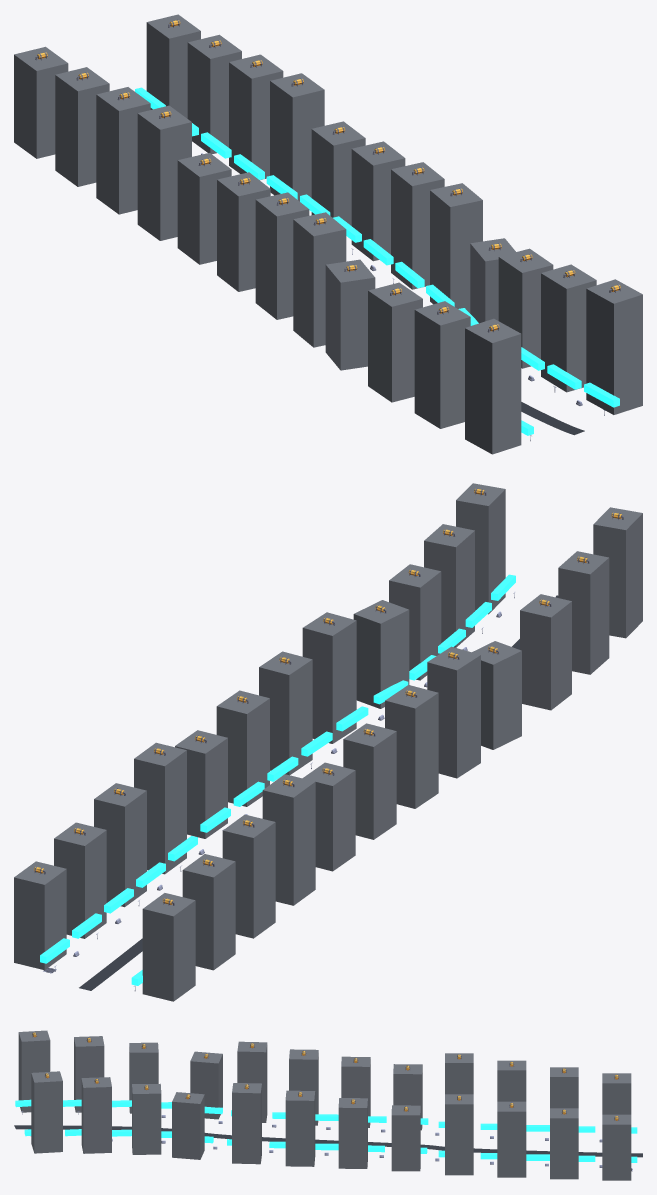
File: sector_01_cerberus_corridor.glb
The picture shows the model from 3 angles, top to bottom: view 1: azimuth 30°, elevation 25°; view 2: azimuth 150°, elevation 25°; view 3: azimuth 270°, elevation 25°; orthographic projection. The views are drawn at different scales.
Visible parts, largest first — view 1: Tower_zone_megatowers_flanks_-1_11, Tower_zone_megatowers_flanks_1_11, Tower_zone_megatowers_flanks_-1_10, Tower_zone_megatowers_flanks_-1_3, Tower_zone_megatowers_flanks_-1_9, Tower_zone_megatowers_flanks_1_3, Tower_zone_megatowers_flanks_1_7, Tower_zone_megatowers_flanks_-1_2, Tower_zone_megatowers_flanks_1_10, Tower_zone_megatowers_flanks_-1_7, Tower_zone_megatowers_flanks_-1_6, Tower_zone_megatowers_flanks_-1_1 (+12 smaller); view 2: Tower_zone_megatowers_flanks_-1_7, Tower_zone_megatowers_flanks_1_7, Tower_zone_megatowers_flanks_-1_3, Tower_zone_megatowers_flanks_-1_9, Tower_zone_megatowers_flanks_-1_6, Tower_zone_megatowers_flanks_-1_0, Tower_zone_megatowers_flanks_-1_2, Tower_zone_megatowers_flanks_1_3, Tower_zone_megatowers_flanks_1_6, Tower_zone_megatowers_flanks_-1_10, Tower_zone_megatowers_flanks_-1_5, Tower_zone_megatowers_flanks_1_0 (+13 smaller); view 3: Tower_zone_megatowers_flanks_1_11, Tower_zone_megatowers_flanks_1_7, Tower_zone_megatowers_flanks_1_3, Tower_zone_megatowers_flanks_1_10, Tower_zone_megatowers_flanks_1_6, Tower_zone_megatowers_flanks_1_2, Tower_zone_megatowers_flanks_1_8, Tower_zone_megatowers_flanks_1_9, Tower_zone_megatowers_flanks_1_5, Tower_zone_megatowers_flanks_1_1, Tower_zone_megatowers_flanks_1_0, Tower_zone_megatowers_flanks_1_4 (+13 smaller).
Part boxes in pixels (x1,y1,x2,y2): Tower_zone_megatowers_flanks_-1_11: [465, 318, 521, 454]; Tower_zone_megatowers_flanks_1_11: [586, 279, 642, 414]; Tower_zone_megatowers_flanks_-1_10: [414, 301, 470, 428]; Tower_zone_megatowers_flanks_-1_3: [137, 105, 191, 240]; Tower_zone_megatowers_flanks_-1_9: [368, 282, 422, 402]; Tower_zone_megatowers_flanks_1_3: [270, 73, 324, 201]; Tower_zone_megatowers_flanks_1_7: [430, 183, 482, 313]; Tower_zone_megatowers_flanks_-1_2: [96, 87, 150, 214]; Tower_zone_megatowers_flanks_1_10: [541, 264, 596, 392]; Tower_zone_megatowers_flanks_-1_7: [293, 212, 346, 347]; Tower_zone_megatowers_flanks_-1_6: [255, 192, 309, 319]; Tower_zone_megatowers_flanks_-1_1: [55, 67, 109, 186]; Tower_zone_megatowers_flanks_-1_7: [427, 646, 480, 778]; Tower_zone_megatowers_flanks_1_7: [302, 612, 356, 743]; Tower_zone_megatowers_flanks_-1_3: [262, 774, 315, 905]; Tower_zone_megatowers_flanks_-1_9: [520, 594, 571, 710]; Tower_zone_megatowers_flanks_-1_6: [385, 685, 438, 808]; Tower_zone_megatowers_flanks_-1_0: [142, 893, 195, 1001]; Tower_zone_megatowers_flanks_-1_2: [222, 814, 275, 938]; Tower_zone_megatowers_flanks_1_3: [134, 742, 186, 874]; Tower_zone_megatowers_flanks_1_6: [259, 651, 312, 775]; Tower_zone_megatowers_flanks_-1_10: [558, 551, 609, 674]; Tower_zone_megatowers_flanks_-1_5: [343, 723, 396, 839]; Tower_zone_megatowers_flanks_1_0: [14, 861, 66, 970]; Tower_zone_megatowers_flanks_1_11: [31, 1071, 62, 1153]; Tower_zone_megatowers_flanks_1_7: [232, 1083, 261, 1164]; Tower_zone_megatowers_flanks_1_3: [445, 1094, 473, 1175]; Tower_zone_megatowers_flanks_1_10: [81, 1077, 111, 1153]; Tower_zone_megatowers_flanks_1_6: [285, 1090, 315, 1166]; Tower_zone_megatowers_flanks_1_2: [497, 1101, 526, 1177]; Tower_zone_megatowers_flanks_1_8: [172, 1092, 204, 1159]; Tower_zone_megatowers_flanks_1_9: [132, 1083, 161, 1154]; Tower_zone_megatowers_flanks_1_5: [338, 1098, 367, 1168]; Tower_zone_megatowers_flanks_1_1: [550, 1108, 578, 1179]; Tower_zone_megatowers_flanks_1_0: [602, 1114, 631, 1180]; Tower_zone_megatowers_flanks_1_4: [391, 1105, 420, 1171].
Size of the model in its own units: 195 by 162 by 916.
Materials: 7 (4 with a texture image).
